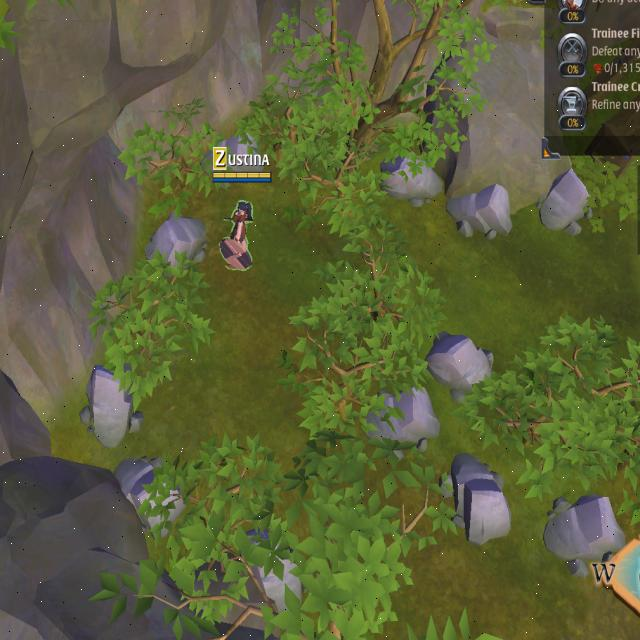stone: (110, 451, 204, 541), (220, 519, 315, 607), (76, 356, 156, 460), (537, 489, 624, 580), (445, 444, 513, 546), (368, 384, 449, 456), (448, 175, 516, 250), (434, 316, 493, 401), (380, 142, 445, 209), (199, 128, 266, 192), (150, 214, 208, 280), (541, 166, 591, 240)
